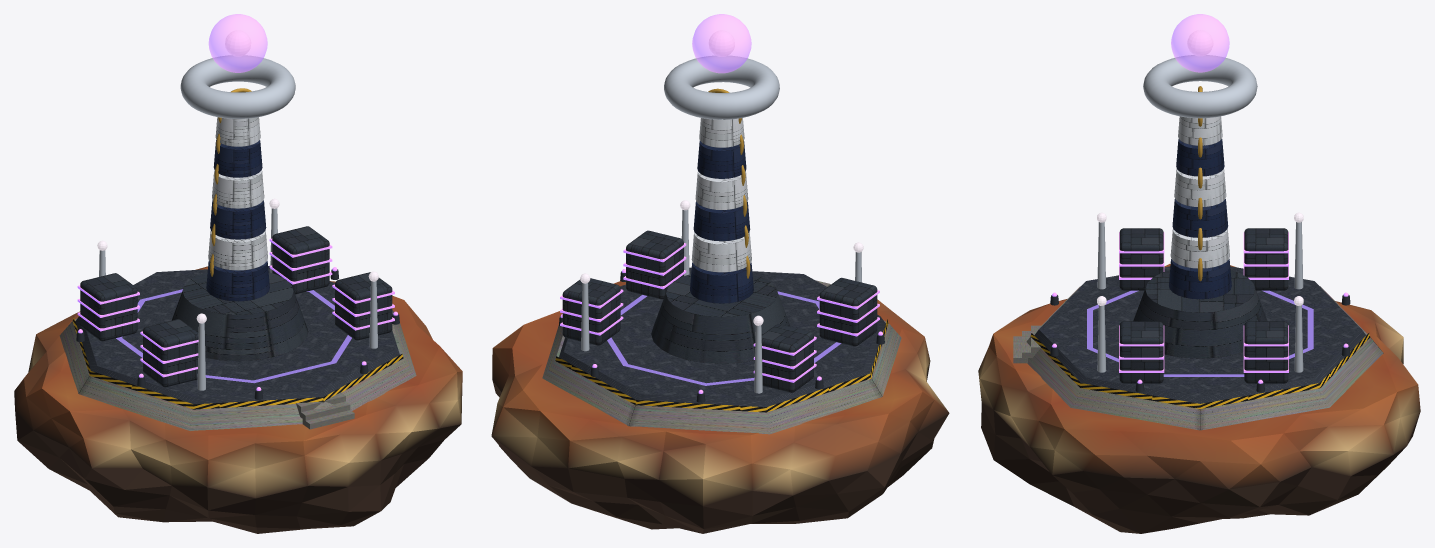
File: emp-L50.glb
3 renders of one model, left to right at view 1: azimuth 30°, elevation 25°; view 2: azimuth 150°, elevation 25°; view 3: azimuth 270°, elevation 25°, orthographic.
Bounding box in the file's own units: 6.16 × 6.88 × 6.03.
15 materials, 6 textured.
